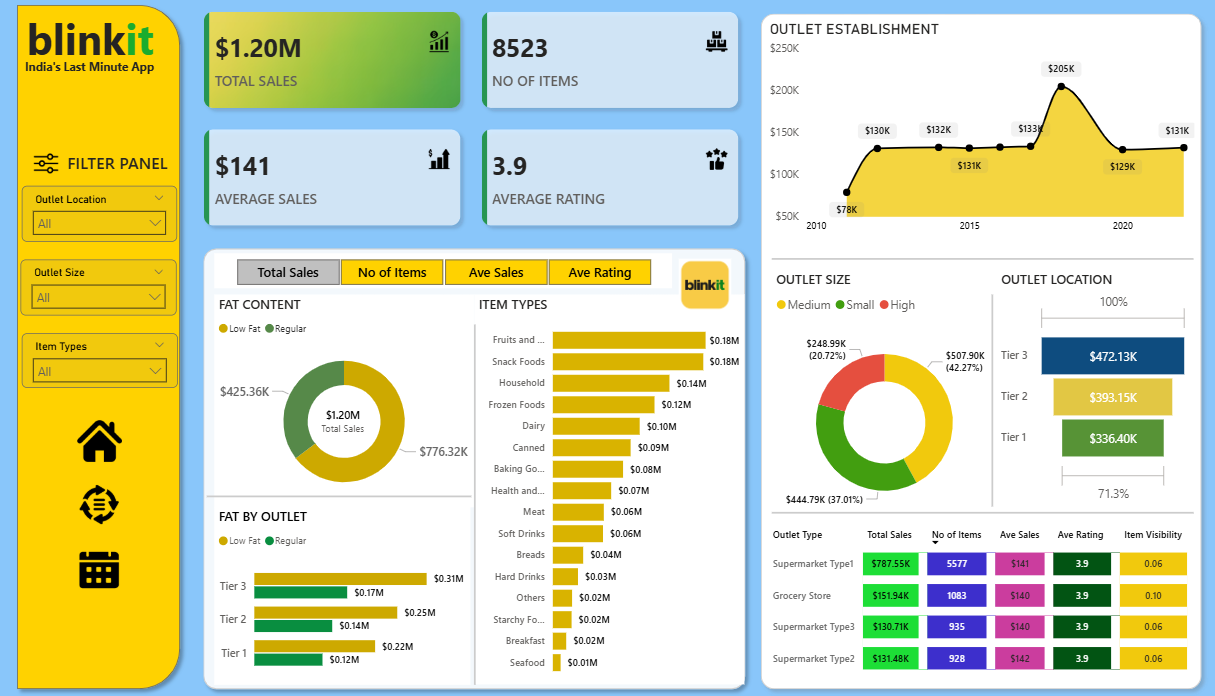

The dashboard page shown, as its layout file describes it:
{"tool":"powerbi","page":{"name":"Page 1","canvas":[1400,800],"ordinal":0},"visuals":[{"type":"shape","box":[12.9,0,204.3,800],"z":0},{"type":"textbox","box":[22.8,10,165.2,77.2],"z":1000},{"type":"textbox","box":[26.4,65.2,161.6,30],"z":2000},{"type":"cardVisual","fields":{"Data":["BlinkIT Grocery Data.Total Sales","BlinkIT Grocery Data.No of Items","BlinkIT Grocery Data.Ave Sales","BlinkIT Grocery Data.Ave Rating"]},"box":[218.8,0,645,278.8],"z":3000},{"type":"shape","box":[225.7,278.6,637.1,521.4],"z":4000},{"type":"donutChart","title":"FAT CONTENT","fields":{"Y":["BlinkIT Grocery Data.Total Sales"],"Category":["BlinkIT Grocery Data.Item Fat Content"]},"box":[247.1,340,297.1,242.9],"z":5000},{"type":"slicer","fields":{"Values":["Metrics.Metrics"]},"box":[246.7,292.2,523.3,40],"z":6000},{"type":"cardVisual","fields":{"Data":["BlinkIT Grocery Data.Total Sales"]},"box":[340,453,108,63],"z":7000},{"type":"clusteredBarChart","title":"FAT BY OUTLET","fields":{"Y":["BlinkIT Grocery Data.Total Sales"],"Category":["BlinkIT Grocery Data.Outlet Location Type"],"Series":["BlinkIT Grocery Data.Item Fat Content"]},"box":[247,583,293,203],"z":8000},{"type":"barChart","title":"ITEM TYPES","fields":{"Y":["BlinkIT Grocery Data.Total Sales"],"Category":["BlinkIT Grocery Data.Item Type"]},"box":[544.3,340,308.6,445.7],"z":9000},{"type":"shape","box":[238,551.3,302.7,38.7],"z":10000},{"type":"shape","box":[538.2,373.6,12.7,411.8],"z":11000},{"type":"shape","box":[862.9,10,521.4,790],"z":12000},{"type":"lineChart","title":"OUTLET ESTABLISHMENT","fields":{"Y":["BlinkIT Grocery Data.Total Sales"],"Category":["BlinkIT Grocery Data.Outlet Establishment Year"]},"box":[877.3,26,495.3,252.7],"z":13000},{"type":"shape","box":[884,280,482,38.7],"z":14000},{"type":"donutChart","title":"OUTLET SIZE","fields":{"Y":["BlinkIT Grocery Data.Total Sales"],"Category":["BlinkIT Grocery Data.Outlet Size"]},"box":[884,311,258,300],"z":15000},{"type":"funnel","title":"OUTLET LOCATION","fields":{"Y":["BlinkIT Grocery Data.Total Sales"],"Category":["BlinkIT Grocery Data.Outlet Location Type"]},"box":[1141.7,311.1,224.4,271.7],"z":16000},{"type":"shape","box":[1130,340,12.8,242.8],"z":17000},{"type":"shape","box":[883.9,570.6,482.2,38.9],"z":18000},{"type":"pivotTable","fields":{"Rows":["BlinkIT Grocery Data.Outlet Type"],"Values":["BlinkIT Grocery Data.Total Sales","BlinkIT Grocery Data.No of Items","BlinkIT Grocery Data.Ave Sales","BlinkIT Grocery Data.Ave Rating","Avg(BlinkIT Grocery Data.Item Visibility)"]},"box":[875.7,595,495.7,178.6],"z":19000},{"type":"slicer","fields":{"Values":["BlinkIT Grocery Data.Outlet Location Type"]},"box":[27.1,215.9,177.6,64.1],"z":20000},{"type":"slicer","fields":{"Values":["BlinkIT Grocery Data.Outlet Size"]},"box":[25.7,300,178.6,64.3],"z":21000},{"type":"slicer","fields":{"Values":["BlinkIT Grocery Data.Item Type"]},"box":[26.7,384,178,62.7],"z":22000},{"type":"textbox","box":[74.7,171.2,130,37.6],"z":23000},{"type":"image","box":[25.9,171.2,57.6,37.6],"z":23001},{"type":"image","box":[85.6,477.8,61.1,61.1],"z":23002},{"type":"image","box":[83.3,552.2,65.6,54.4],"z":23003},{"type":"image","box":[86.7,625.6,56.7,58.9],"z":23004},{"type":"image","box":[770,294.4,75.6,70],"z":23006}]}

Visuals, with their boxes in screenshot pixels (x1, y1, x2, y2), scaled from the page's 1400x800 canvas onto the 1215x696 screenshot:
shape: {"x1": 11, "y1": 0, "x2": 188, "y2": 695}
textbox: {"x1": 20, "y1": 9, "x2": 163, "y2": 76}
textbox: {"x1": 23, "y1": 57, "x2": 163, "y2": 83}
cardVisual - BlinkIT Grocery Data.Total Sales x BlinkIT Grocery Data.No of Items: {"x1": 190, "y1": 0, "x2": 750, "y2": 243}
shape: {"x1": 196, "y1": 242, "x2": 749, "y2": 695}
"FAT CONTENT" donutChart: {"x1": 214, "y1": 296, "x2": 472, "y2": 507}
slicer - Metrics.Metrics: {"x1": 214, "y1": 254, "x2": 668, "y2": 289}
cardVisual - BlinkIT Grocery Data.Total Sales: {"x1": 295, "y1": 394, "x2": 389, "y2": 449}
"FAT BY OUTLET" clusteredBarChart: {"x1": 214, "y1": 507, "x2": 469, "y2": 684}
"ITEM TYPES" barChart: {"x1": 472, "y1": 296, "x2": 740, "y2": 684}
shape: {"x1": 207, "y1": 480, "x2": 469, "y2": 513}
shape: {"x1": 467, "y1": 325, "x2": 478, "y2": 683}
shape: {"x1": 749, "y1": 9, "x2": 1201, "y2": 695}
"OUTLET ESTABLISHMENT" lineChart: {"x1": 761, "y1": 23, "x2": 1191, "y2": 242}
shape: {"x1": 767, "y1": 244, "x2": 1185, "y2": 277}
"OUTLET SIZE" donutChart: {"x1": 767, "y1": 271, "x2": 991, "y2": 532}
"OUTLET LOCATION" funnel: {"x1": 991, "y1": 271, "x2": 1186, "y2": 507}
shape: {"x1": 981, "y1": 296, "x2": 992, "y2": 507}
shape: {"x1": 767, "y1": 496, "x2": 1186, "y2": 530}
pivotTable - BlinkIT Grocery Data.Outlet Type x BlinkIT Grocery Data.Total Sales: {"x1": 760, "y1": 518, "x2": 1190, "y2": 673}
slicer - BlinkIT Grocery Data.Outlet Location Type: {"x1": 24, "y1": 188, "x2": 178, "y2": 244}
slicer - BlinkIT Grocery Data.Outlet Size: {"x1": 22, "y1": 261, "x2": 177, "y2": 317}
slicer - BlinkIT Grocery Data.Item Type: {"x1": 23, "y1": 334, "x2": 178, "y2": 389}
textbox: {"x1": 65, "y1": 149, "x2": 178, "y2": 182}
image: {"x1": 22, "y1": 149, "x2": 72, "y2": 182}
image: {"x1": 74, "y1": 416, "x2": 127, "y2": 469}
image: {"x1": 72, "y1": 480, "x2": 129, "y2": 528}
image: {"x1": 75, "y1": 544, "x2": 124, "y2": 596}
image: {"x1": 668, "y1": 256, "x2": 734, "y2": 317}
